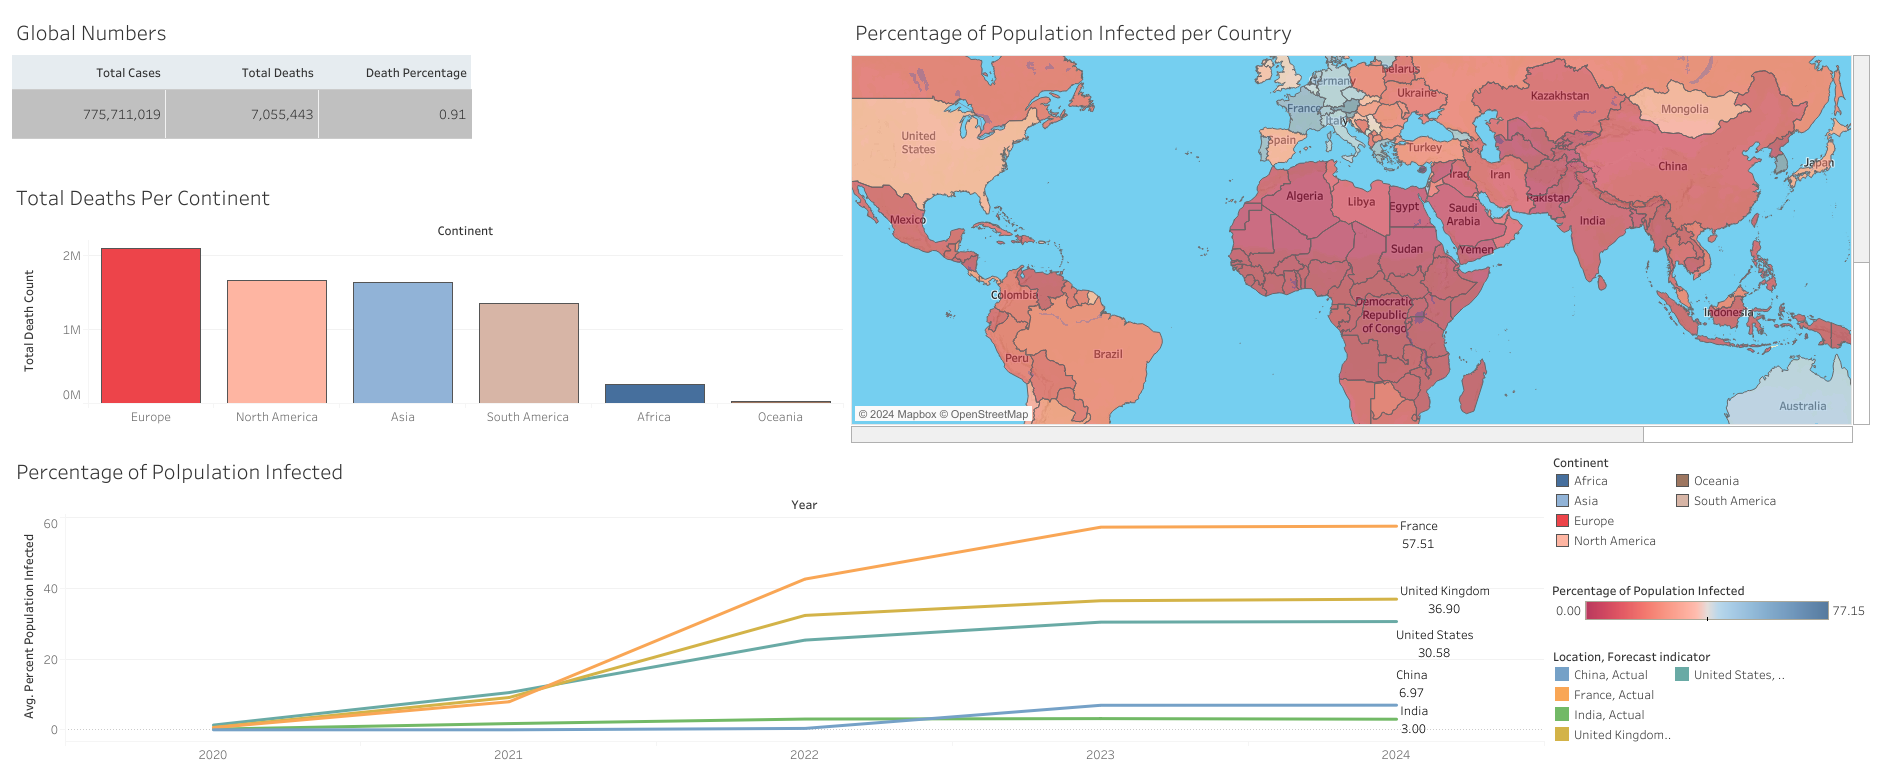

Layout of this report page (visuals, bound fields, positions):
{"tool":"tableau","page":{"name":"Dashboard 1","canvas":[1000,1000],"units":"permille","ordinal":0},"visuals":[{"type":"worksheet","title":"Sheet 1","mark":"Automatic","box":[4.8,10,445.4,213.5]},{"type":"worksheet","title":"Sheet 3","mark":"Automatic","box":[450.2,10,545,566.8]},{"type":"worksheet","title":"Sheet 2","mark":"Automatic","rows":["TotalDeathCount"],"cols":["location"],"box":[4.8,223.5,445.4,353.3]},{"type":"worksheet","title":"Sheet 4","mark":"Automatic","rows":["PercentPopulationInfected"],"cols":["date"],"box":[4.8,576.8,817.1,413.2]},{"type":"legend","title":"Sheet 2","param":"[federated.1gnxks01ovmxzl1cvbak4028hwdo].[attr:location:nk]","box":[822,576.8,173.2,161]},{"type":"legend","title":"Sheet 3","param":"[federated.0w4m42s08ocp31147jil90ezmgz7].[sum:PercentPopulationInfected:qk]","box":[822,737.8,173.2,91.1]},{"type":"legend","title":"Sheet 4","param":"[federated.168pkve0xxww2c187r39e0r8k966].[none:Location:nk]\n[federated.168pkve0x","box":[822,829,173.2,161.1]}]}

Visuals, with their boxes on the dashboard's canvas, which has no fixed pixel size, in thousandths of its width and height (x1, y1, x2, y2). These are canvas units, not pixel positions in the 1881x774 screenshot, which may show the page scaled, cropped or inside an application window:
"Sheet 1" worksheet: <region>5, 10, 450, 224</region>
"Sheet 3" worksheet: <region>450, 10, 995, 577</region>
"Sheet 2" worksheet: <region>5, 224, 450, 577</region>
"Sheet 4" worksheet: <region>5, 577, 822, 990</region>
"Sheet 2" legend: <region>822, 577, 995, 738</region>
"Sheet 3" legend: <region>822, 738, 995, 829</region>
"Sheet 4" legend: <region>822, 829, 995, 990</region>
